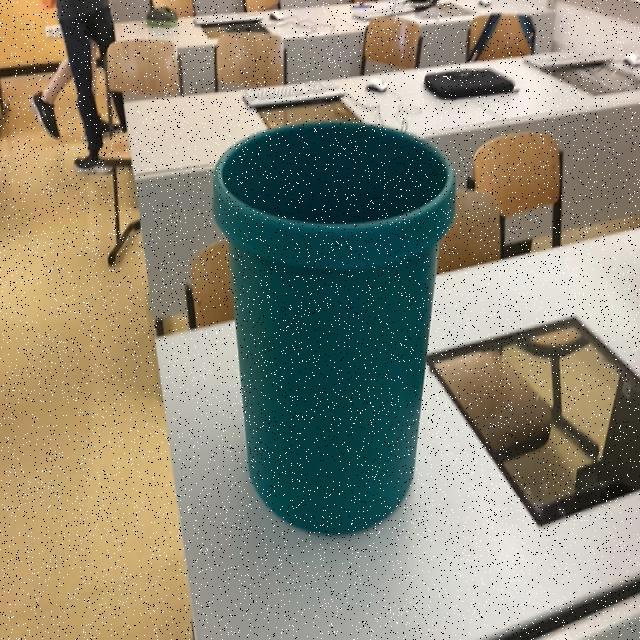garbage container: (187, 87, 475, 564)
